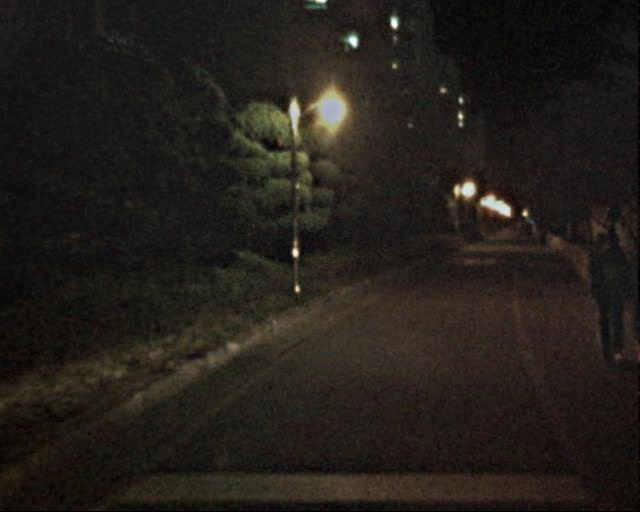person: (580, 233, 636, 370)
